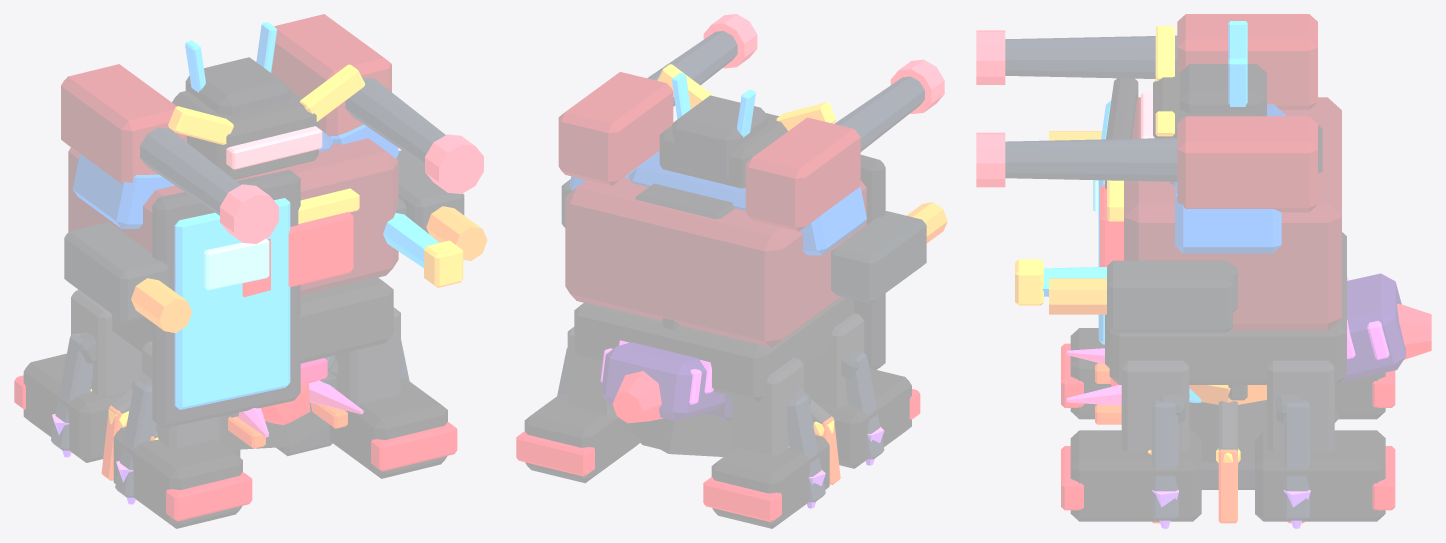
File: enemy_mechs.glb
3 views of the same model, side by side, from view 1: azimuth 30°, elevation 25°; view 2: azimuth 150°, elevation 25°; view 3: azimuth 270°, elevation 25° (orthographic). The views are drawn at different scales.
Parts seen in each view (by area): view 1: Enemy_Juggernaut, Enemy_ShieldMech, Enemy_Crawler, Enemy_Kamikaze; view 2: Enemy_Juggernaut, Enemy_ShieldMech, Enemy_Crawler, Enemy_Kamikaze; view 3: Enemy_Juggernaut, Enemy_ShieldMech, Enemy_Crawler, Enemy_Kamikaze.
Part boxes in pixels (<box>): Enemy_Juggernaut: <box>14,14,487,528</box>; Enemy_ShieldMech: <box>72,22,463,457</box>; Enemy_Crawler: <box>51,331,409,504</box>; Enemy_Kamikaze: <box>90,358,347,480</box>; Enemy_Juggernaut: <box>516,14,947,528</box>; Enemy_ShieldMech: <box>569,73,885,449</box>; Enemy_Crawler: <box>557,340,884,508</box>; Enemy_Kamikaze: <box>623,318,840,484</box>; Enemy_Juggernaut: <box>976,14,1395,521</box>; Enemy_ShieldMech: <box>1015,21,1322,489</box>; Enemy_Crawler: <box>1066,273,1431,528</box>; Enemy_Kamikaze: <box>1095,363,1339,523</box>.
Size of the model in its own units: 1.68 by 1.91 by 1.88.
